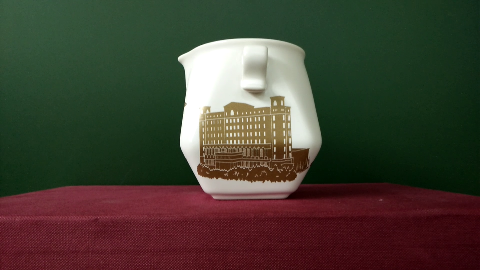law: (201, 107, 295, 179)
